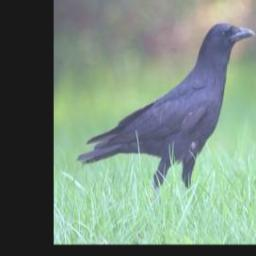Crow: (75, 21, 254, 206)
